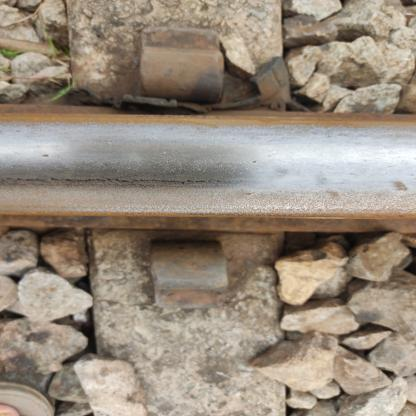Defective: (6, 145, 380, 358)
